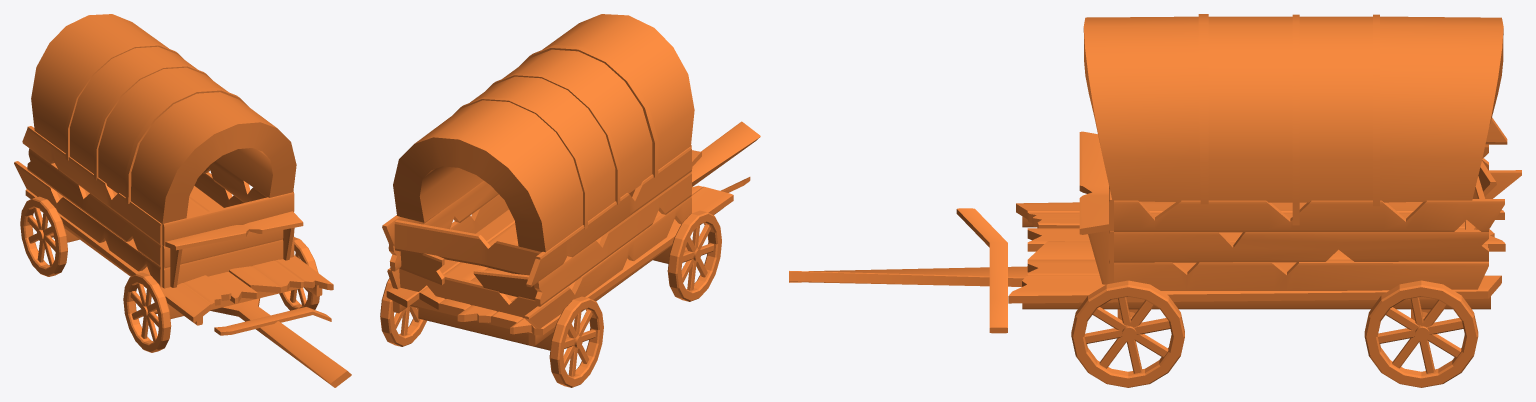
File: Carro_a-3.fbx
The picture shows the model from 3 angles, left to right: view 1: azimuth 30°, elevation 25°; view 2: azimuth 150°, elevation 25°; view 3: azimuth 270°, elevation 25°; orthographic projection. The views are drawn at different scales.
Parts seen in each view (by area): view 1: Carroça-3; view 2: Carroça-3; view 3: Carroça-3.
Boxes of the visible parts, x1,y1,x2,y2 form: Carroça-3: (14,14,351,387); Carroça-3: (380,14,760,387); Carroça-3: (789,14,1521,387).
Bounding box in the file's own units: 213 × 285 × 609.
